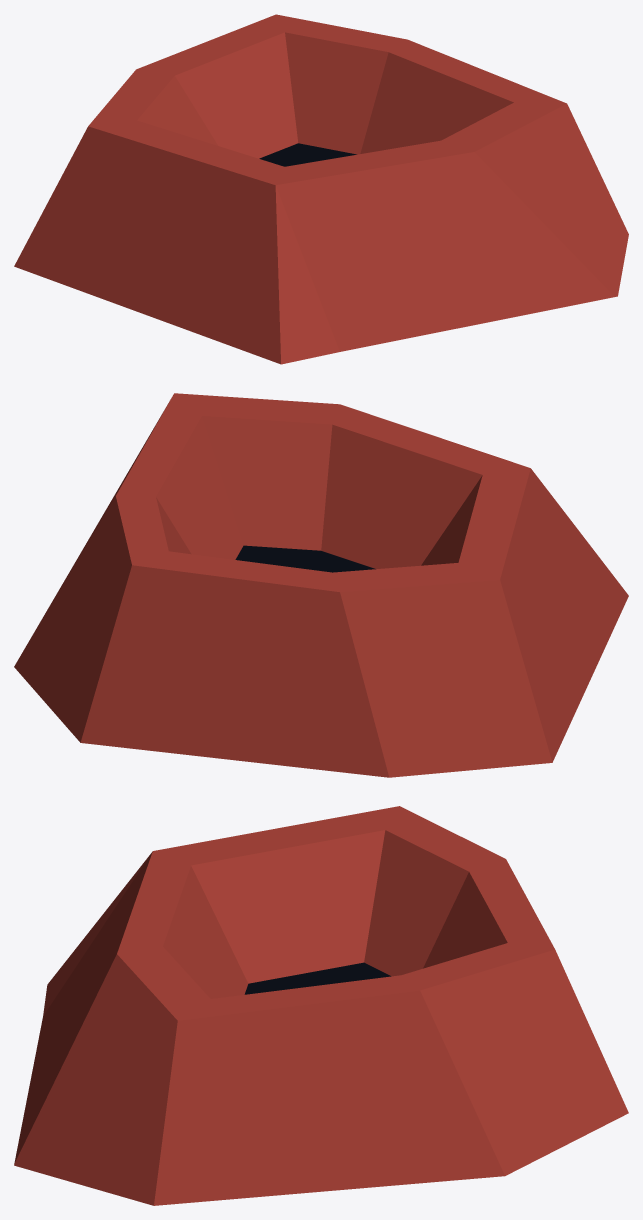
File: geyser.fbx
3 views of the same model, one above another, from view 1: azimuth 30°, elevation 25°; view 2: azimuth 150°, elevation 25°; view 3: azimuth 270°, elevation 25° (orthographic). The views are drawn at different scales.
Parts seen in each view (by area): view 1: Plane; view 2: Plane; view 3: Plane.
Part boxes in pixels (x1,y1,x2,y2): Plane: (14,14,628,364); Plane: (14,393,628,777); Plane: (14,806,628,1205).
Size of the model in its own units: 114 by 29.83 by 106.
